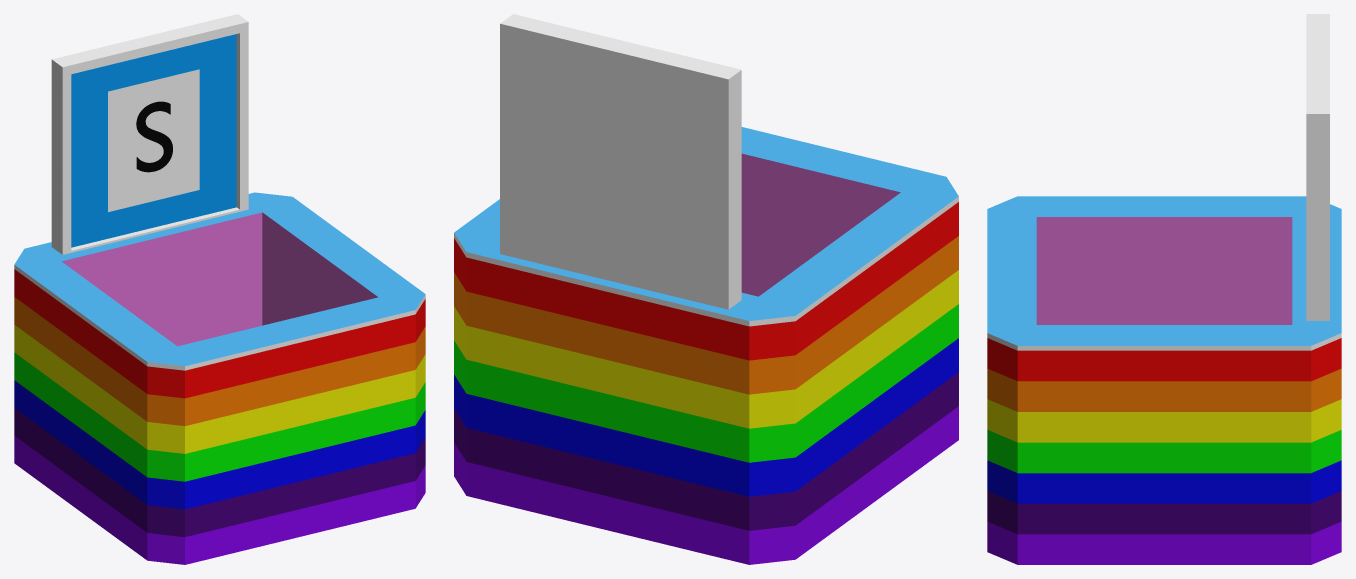
3 renders of one model, left to right at view 1: azimuth 30°, elevation 25°; view 2: azimuth 150°, elevation 25°; view 3: azimuth 270°, elevation 25°, orthographic. The views are drawn at different scales.
Visible parts, largest first — view 1: Cube.001, Text; view 2: Cube.001; view 3: Cube.001.
Boxes of the visible parts, <box> form: Cube.001: <box>14,14,425,564</box>; Text: <box>136,101,172,172</box>; Cube.001: <box>454,14,958,564</box>; Cube.001: <box>987,14,1341,564</box>.
Bounding box in the file's own units: 383 × 508 × 383.
